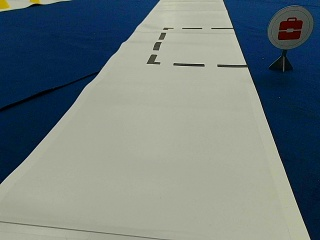company: (268, 6, 313, 47)
